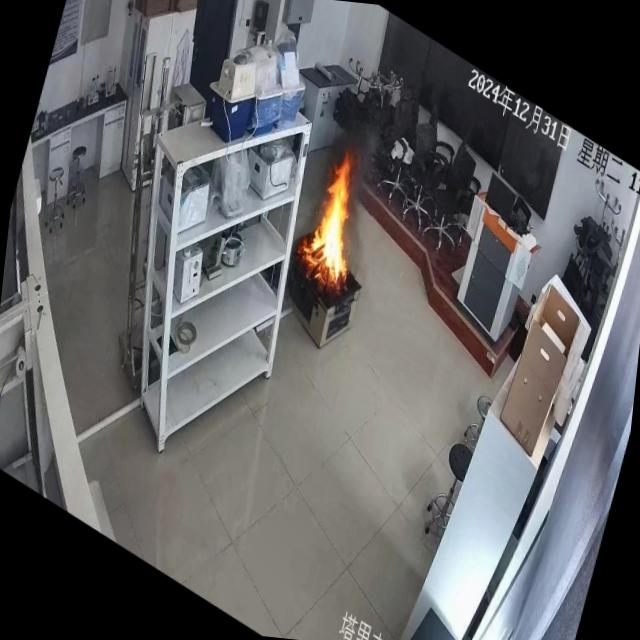fire: (271, 123, 404, 360)
